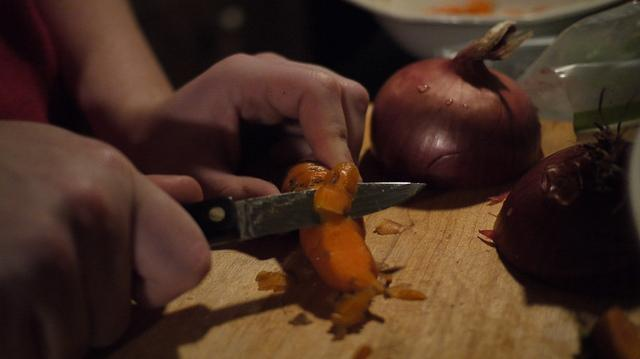carrot: (280, 161, 386, 295)
onion: (478, 88, 639, 291), (370, 20, 546, 191)
